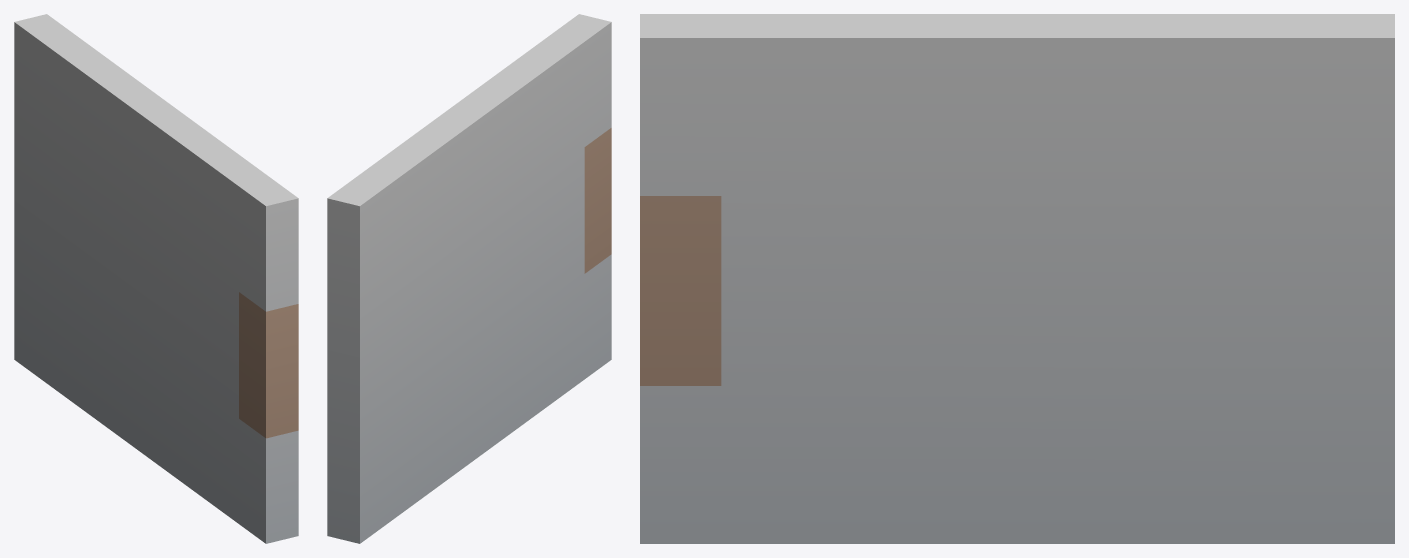
Rendered from (%no-merge) (%open-left) 6_0.glb.
3 views of the same model, side by side, from view 1: azimuth 30°, elevation 25°; view 2: azimuth 150°, elevation 25°; view 3: azimuth 270°, elevation 25° (orthographic). The views are drawn at different scales.
Visible parts, largest first — view 1: (%no-merge) (%open-left) 6; view 2: (%no-merge) (%open-left) 6; view 3: (%no-merge) (%open-left) 6.
Part boxes in pixels (box(x1,y1,x2,y2)): (%no-merge) (%open-left) 6: box(14, 14, 298, 543); (%no-merge) (%open-left) 6: box(327, 14, 611, 543); (%no-merge) (%open-left) 6: box(640, 14, 1394, 543).
Bounding box in the file's own units: 0.0265 × 0.2619 × 0.354.
